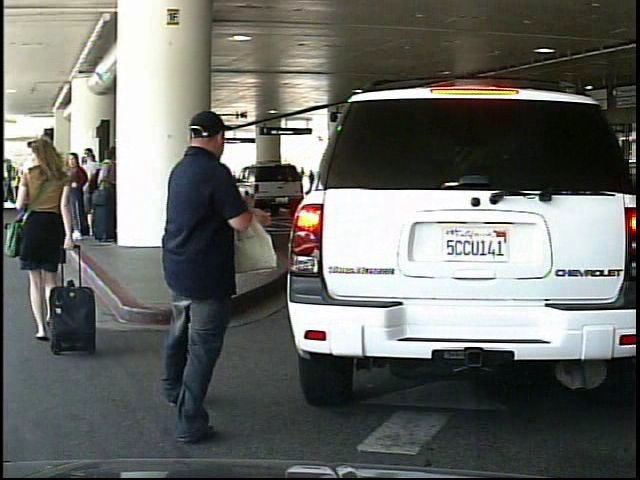person: (152, 103, 265, 438), (7, 132, 79, 358)
